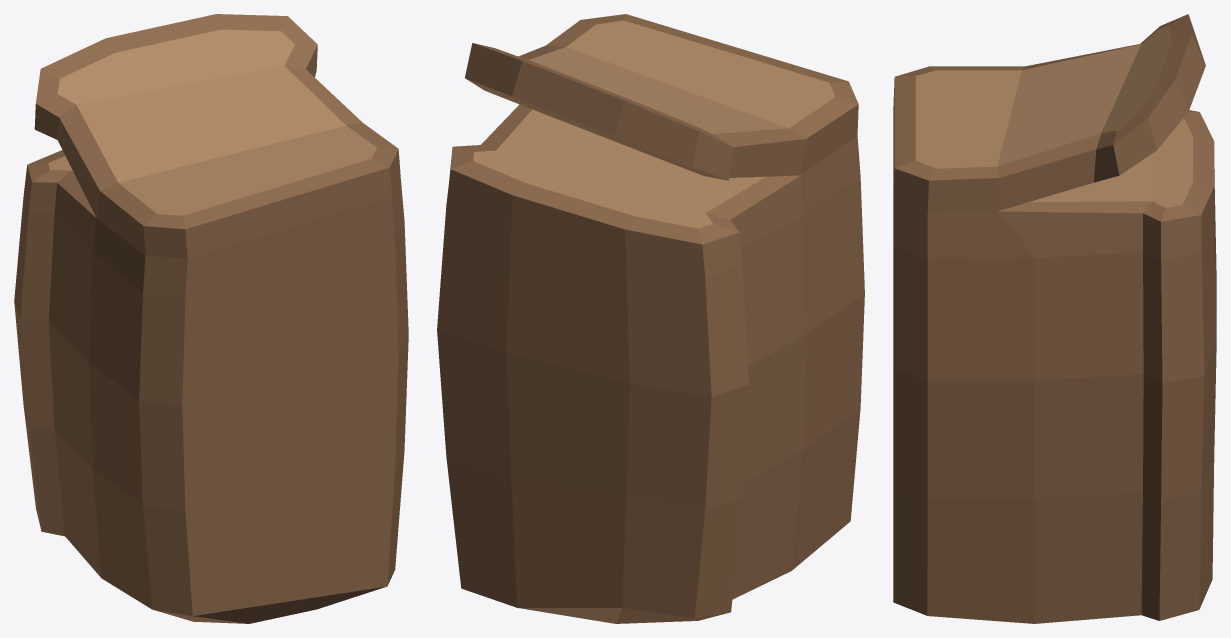
File: LPFood_BreadLoaf.fbx
The picture shows the model from 3 angles, left to right: view 1: azimuth 30°, elevation 25°; view 2: azimuth 150°, elevation 25°; view 3: azimuth 270°, elevation 25°; orthographic projection. The views are drawn at different scales.
Parts seen in each view (by area): view 1: BreadLoaf; view 2: BreadLoaf; view 3: BreadLoaf.
Boxes of the visible parts, x1,y1,x2,y2 form: BreadLoaf: (14,14,408,623); BreadLoaf: (437,14,864,623); BreadLoaf: (893,14,1216,623).
Size of the model in its own units: 19.16 by 32.89 by 18.33.
